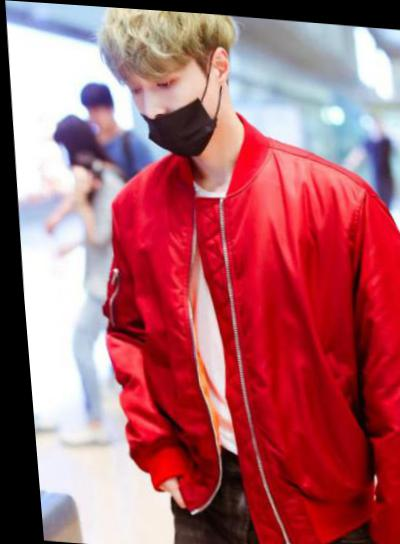WRONG: (124, 52, 218, 158)
